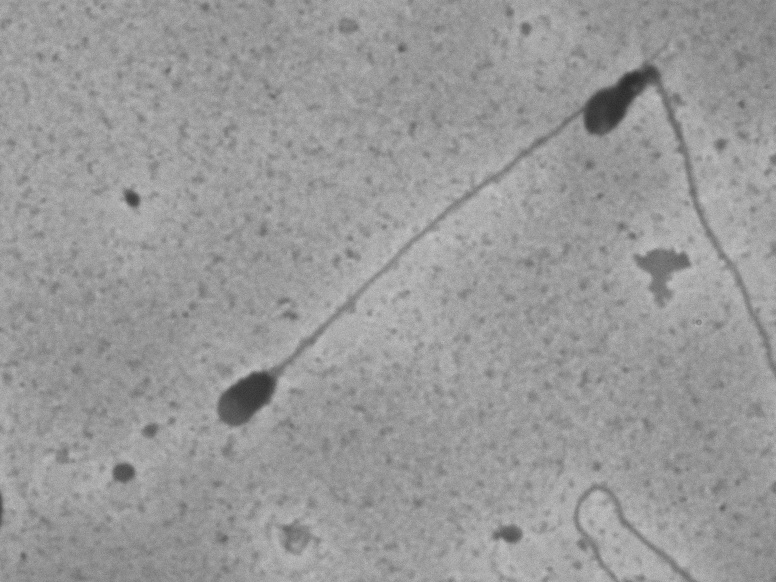Normal: (202, 86, 584, 453)
